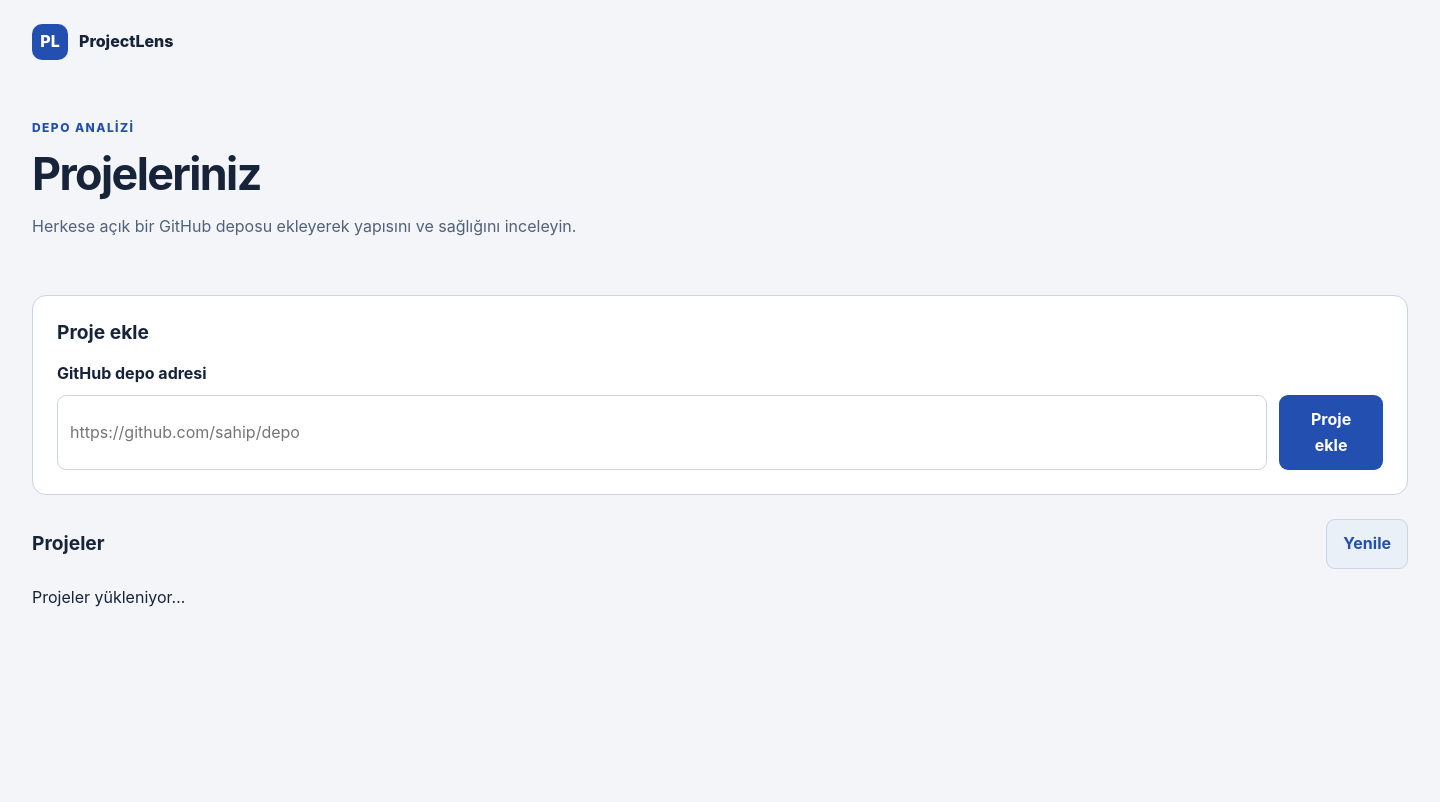
it: project screens › validates create URL and creates successfully
Step 1. Type "http://example.com/foo" into the field labelled "GitHub depo adresi" → coordinates (662, 433), box [57,395,1267,470]
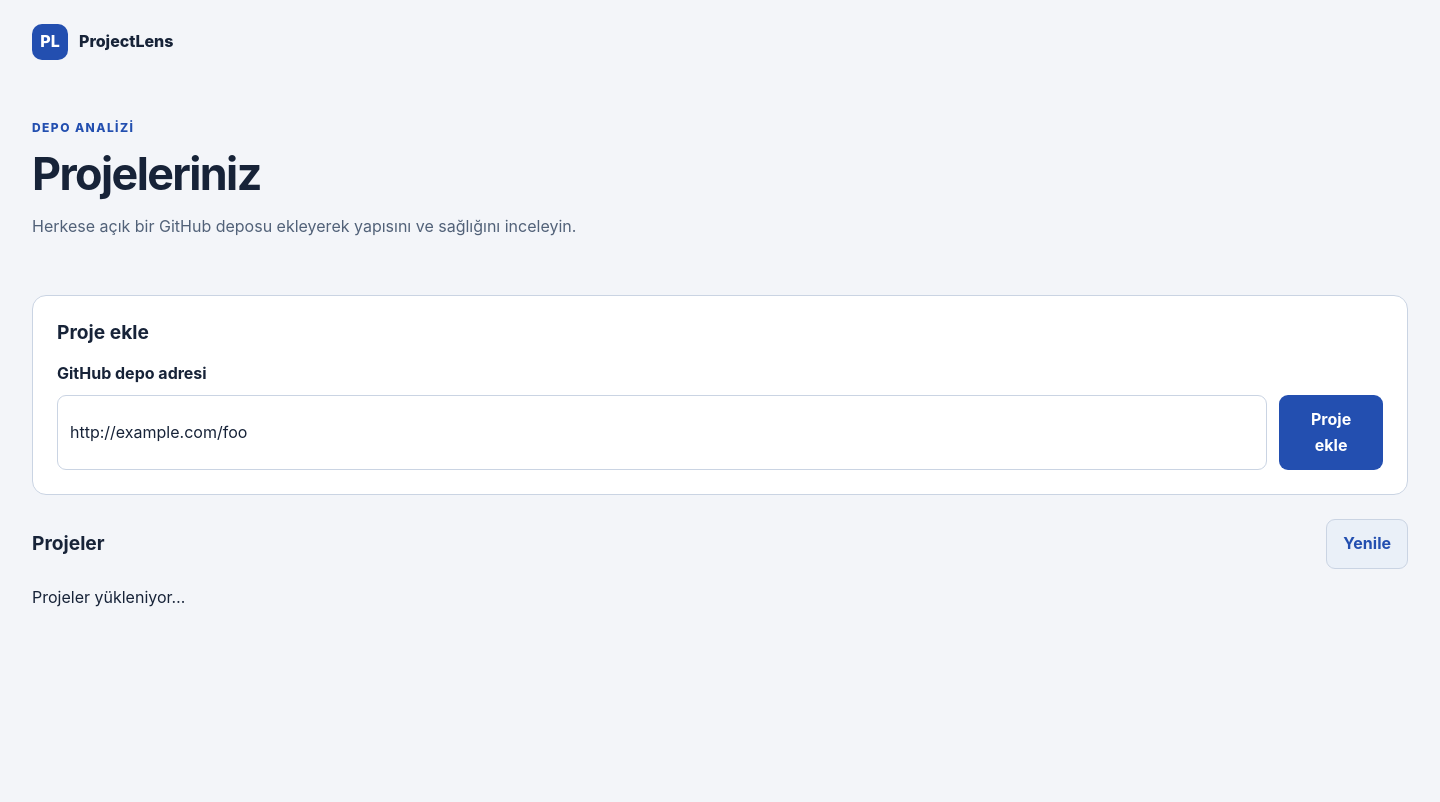
Step 2. Click the button "Proje ekle" → coordinates (1331, 433), box [1279,395,1383,470]
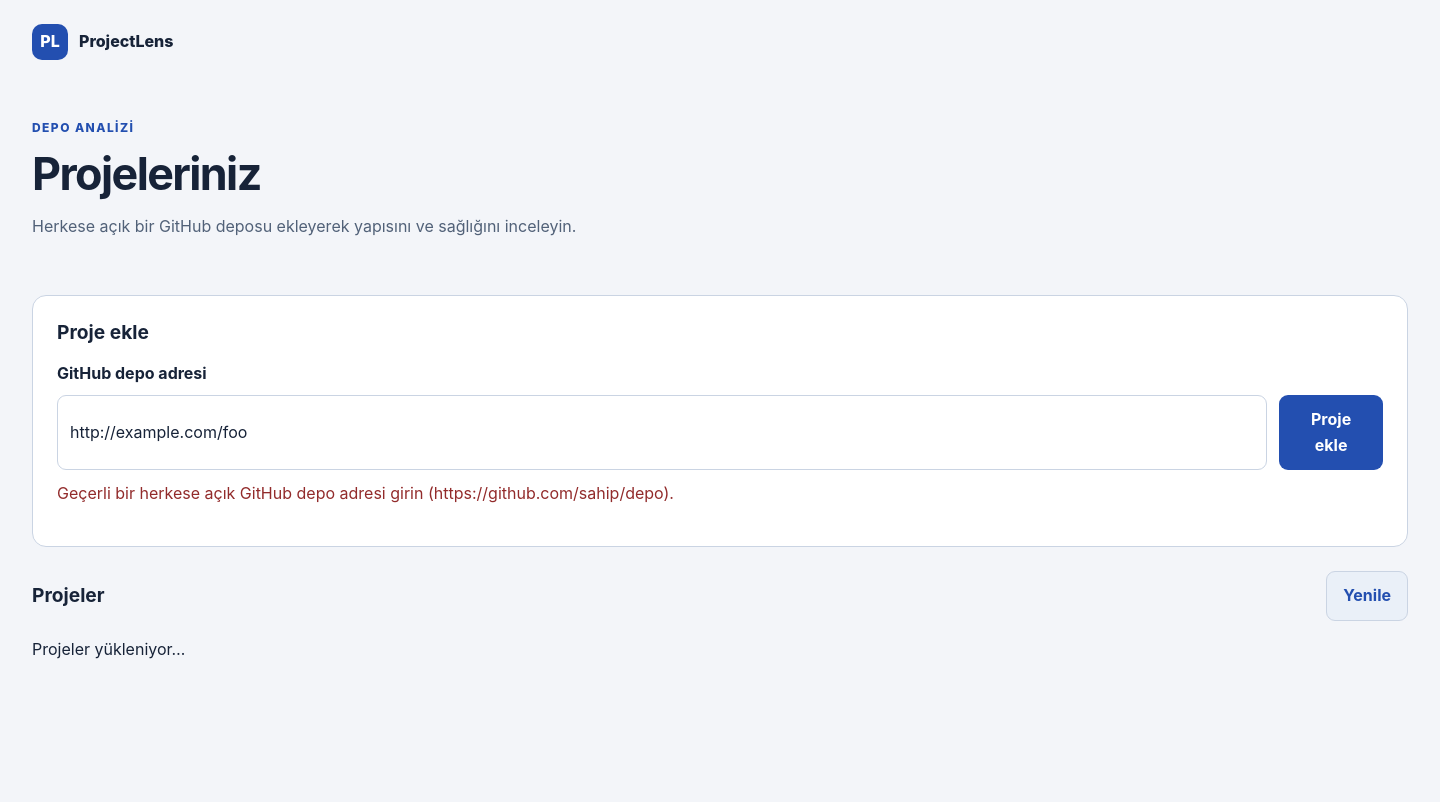
Check: the 1st message shows "Geçerli bir herkese açık GitHub depo adresi", box [57,482,674,502]
Step 3. Replace the text in the field labelled "GitHub depo adresi" with "https://github.com/acme/demo" → coordinates (662, 433), box [57,395,1267,470]
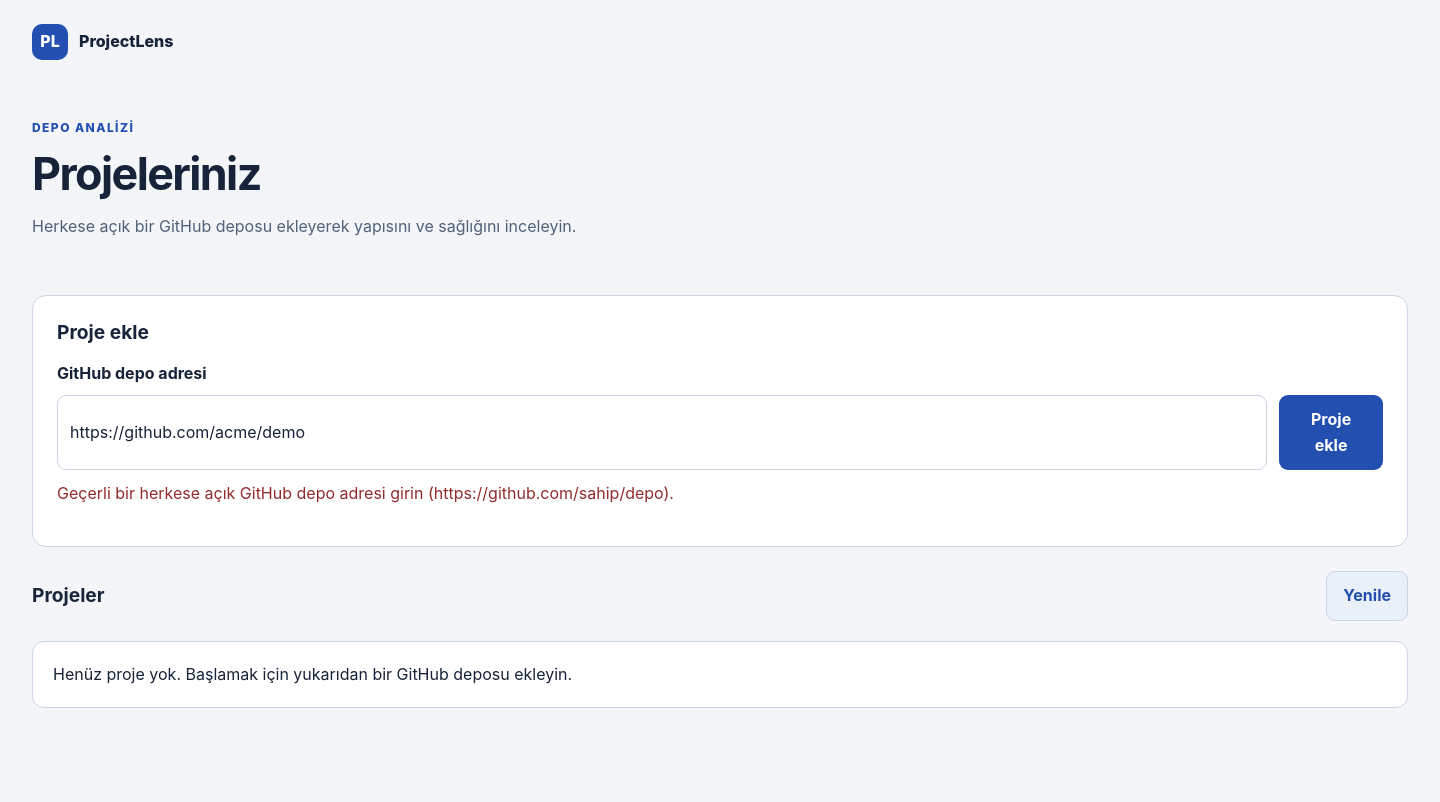
Step 4. Click the button "Proje ekle" → coordinates (1331, 433), box [1279,395,1383,470]
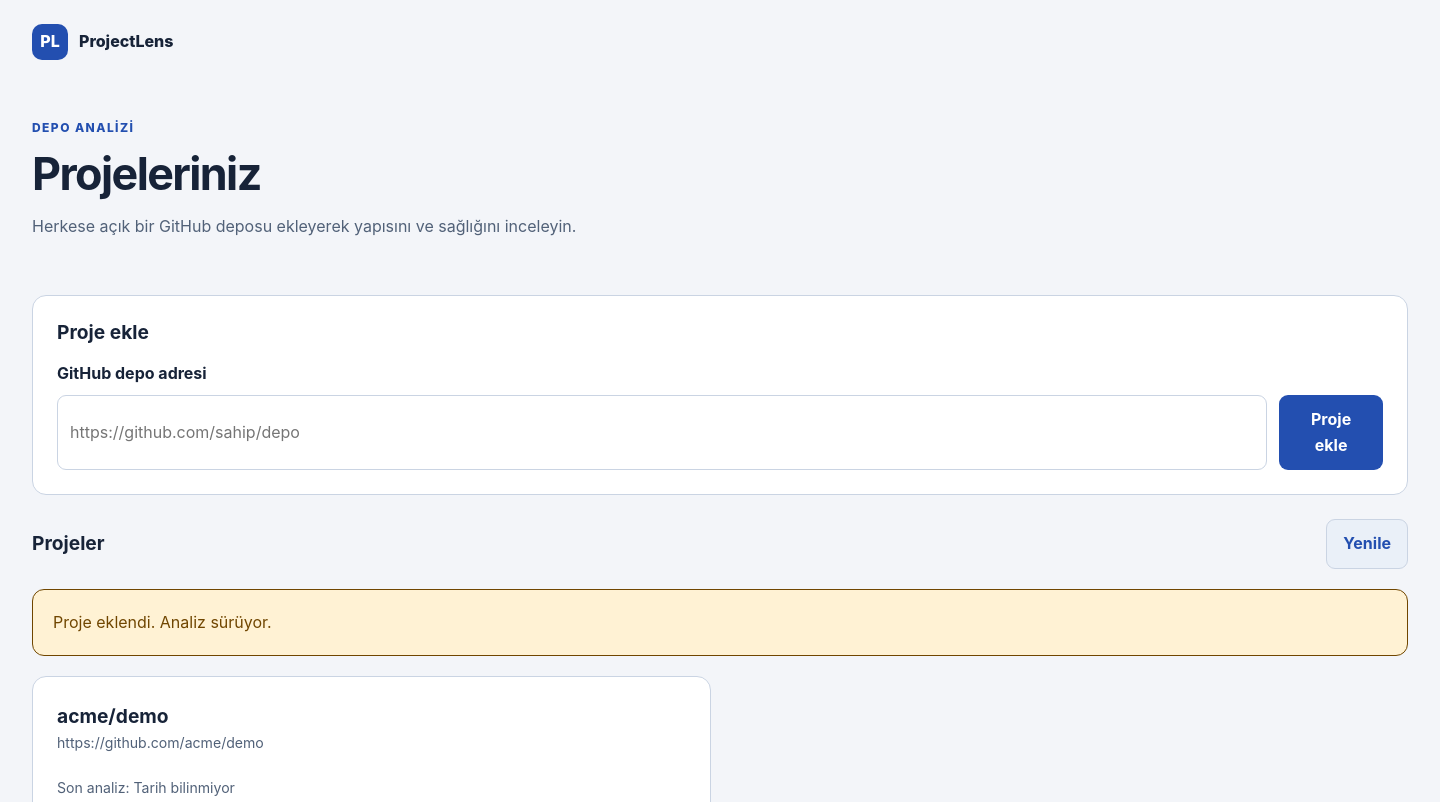
Check: the text "Proje eklendi. Analiz sürüyor." is shown, box [32,589,1408,656]
